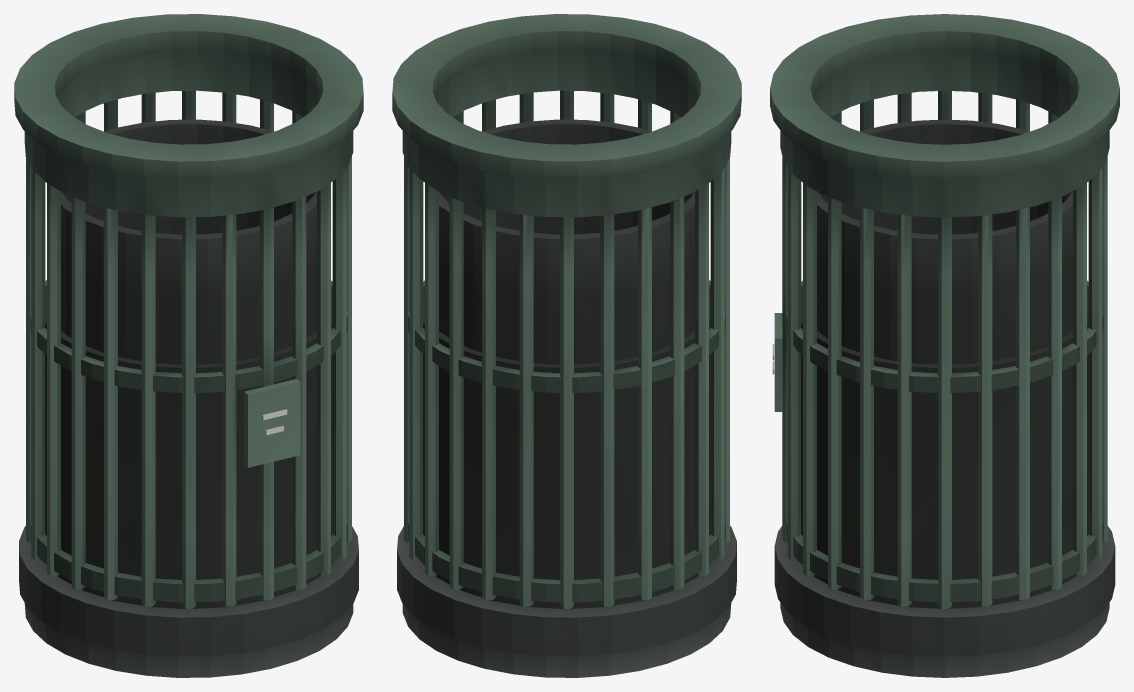
The model's file is bin.glb.
The picture shows the model from 3 angles, left to right: view 1: azimuth 30°, elevation 25°; view 2: azimuth 150°, elevation 25°; view 3: azimuth 270°, elevation 25°; orthographic projection.
Parts seen in each view (by area): view 1: bin; view 2: bin; view 3: bin.
Part boxes in pixels (x1=…): bin: x1=14, y1=14, x2=363, y2=677; bin: x1=392, y1=14, x2=741, y2=677; bin: x1=770, y1=14, x2=1119, y2=677.
Bounding box in the file's own units: 0.606 × 0.995 × 0.606.
